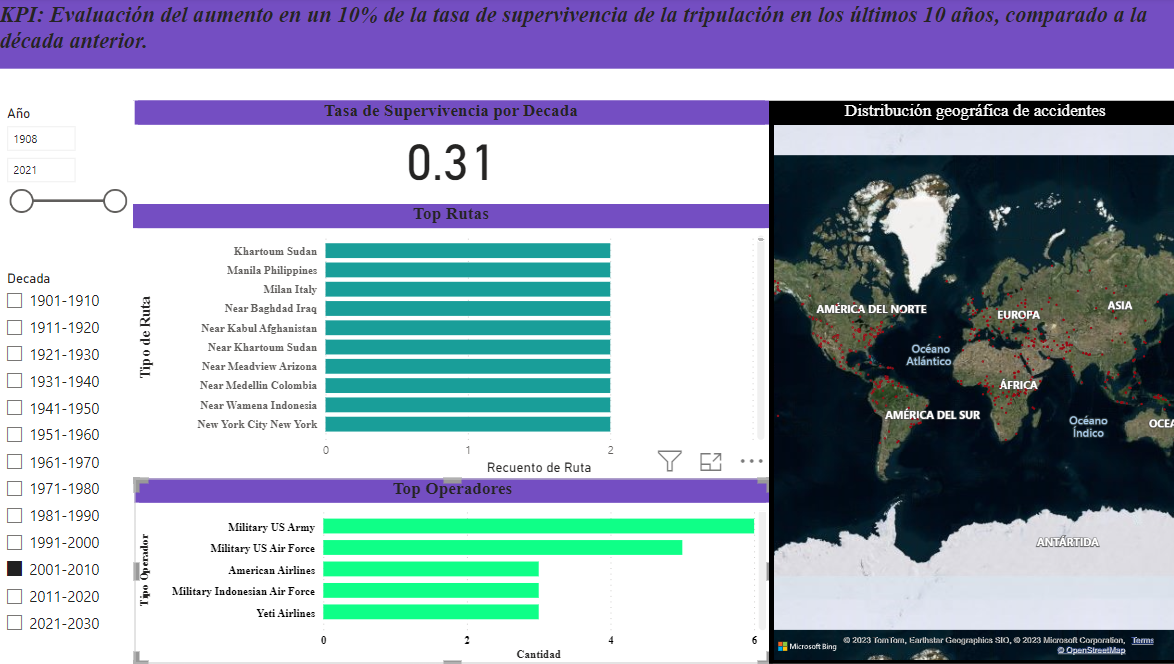

Layout of this report page (visuals, bound fields, positions):
{"tool":"powerbi","page":{"name":"KPI 2","canvas":[1280,720],"ordinal":2},"visuals":[{"type":"kpi","fields":{"Indicator":["Acci.Tasa de Supervivencia"],"TrendLine":["Acci.Decada"]},"box":[148.9,111.6,686,111.6],"z":0},{"type":"slicer","fields":{"Values":["Acci.Decada"]},"box":[0,289.6,150.5,430.4],"z":1000},{"type":"slicer","fields":{"Values":["Acci.Año"]},"box":[0,111.6,150.5,178],"z":2000},{"type":"barChart","title":"Top Rutas","fields":{"Category":["Acci.Ruta"],"Y":["CountNonNull(Acci.Ruta)"]},"box":[148.9,223.3,686,296.1],"z":3000},{"type":"barChart","title":"Top Operadores","fields":{"Category":["Acci.OperadOR"],"Y":["CountNonNull(Acci.OperadOR)"]},"box":[150.5,519.4,686,200.6],"z":4000},{"type":"textbox","box":[0,0,1280,77.4],"z":5000},{"type":"map","title":"Distribución geográfica de accidentes","fields":{"Category":["Acci.Ruta"]},"box":[834.9,111.6,444.9,608.4],"z":6000}]}

Visuals, with their boxes in screenshot pixels (x1, y1, x2, y2), scaled from the page's 1280x720 canvas onto the 1174x664 screenshot:
kpi - Acci.Tasa de Supervivencia x Acci.Decada: locate(137, 103, 766, 206)
slicer - Acci.Decada: locate(0, 267, 138, 663)
slicer - Acci.Año: locate(0, 103, 138, 267)
"Top Rutas" barChart: locate(137, 206, 766, 479)
"Top Operadores" barChart: locate(138, 479, 767, 663)
textbox: locate(0, 0, 1173, 71)
"Distribución geográfica de accidentes" map: locate(766, 103, 1173, 663)
